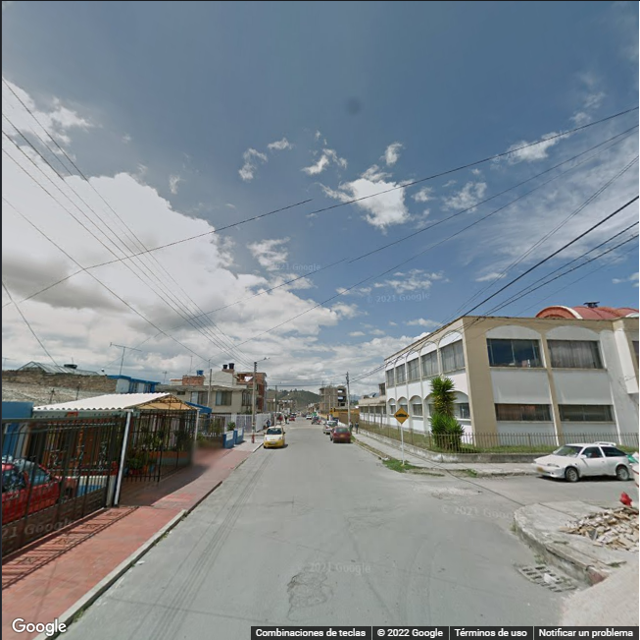D40: (288, 568, 329, 614)
